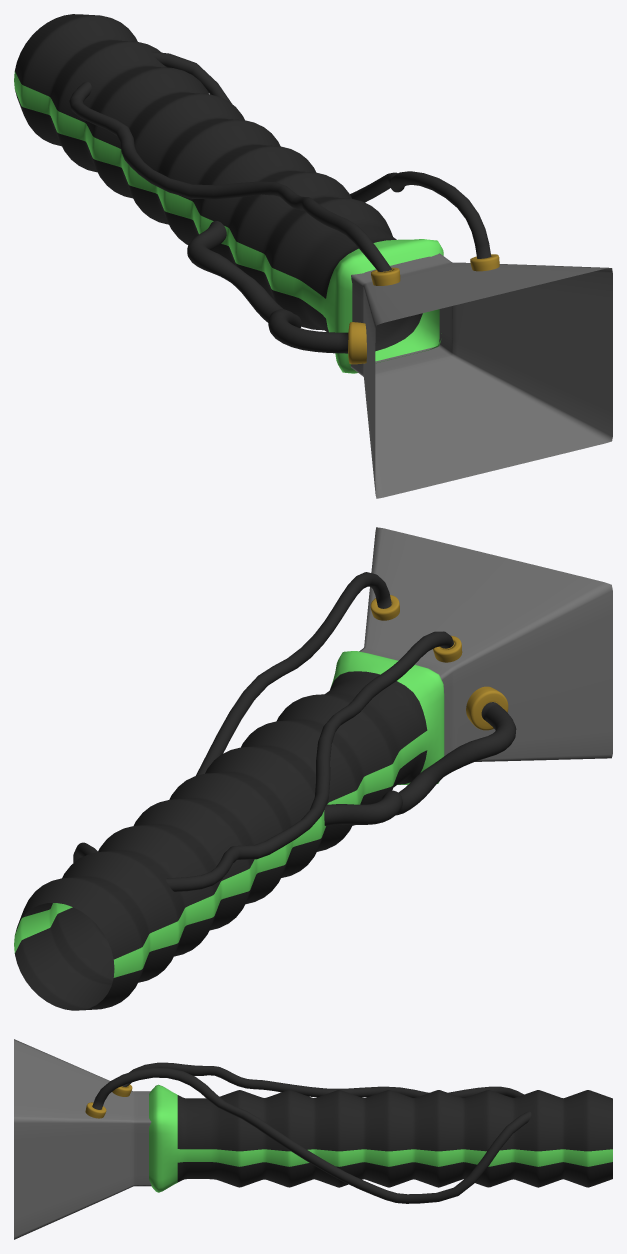
File: SuctionMachine.fbx
The picture shows the model from 3 angles, top to bottom: view 1: azimuth 30°, elevation 25°; view 2: azimuth 150°, elevation 25°; view 3: azimuth 270°, elevation 25°; orthographic projection. The views are drawn at different scales.
Parts seen in each view (by area): view 1: Cube; view 2: Cube; view 3: Cube.
Boxes of the visible parts, <box> form: Cube: <box>14,14,612,498</box>; Cube: <box>14,527,612,1010</box>; Cube: <box>14,1039,612,1239</box>.
Bounding box in the file's own units: 37.07 × 31.26 × 116.
